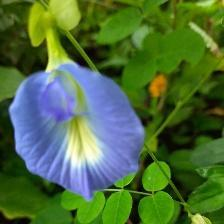shankupushpam: (9, 60, 151, 204)
